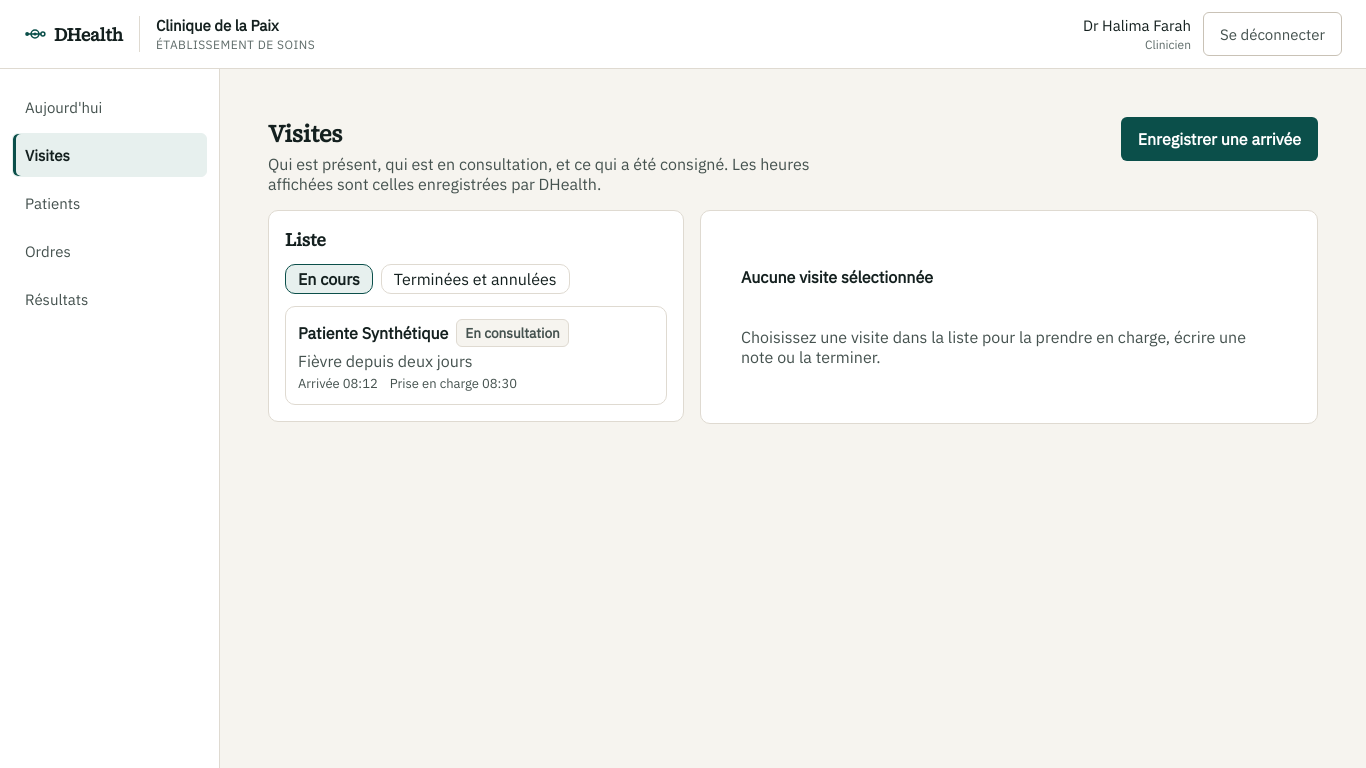
Test: Visites — the lifecycle › re-reads the visit when the server refuses a stale transition
The image size is (1366, 768).
Click the button "Patiente Synthétique" at (373, 333), box [285, 306, 667, 405]
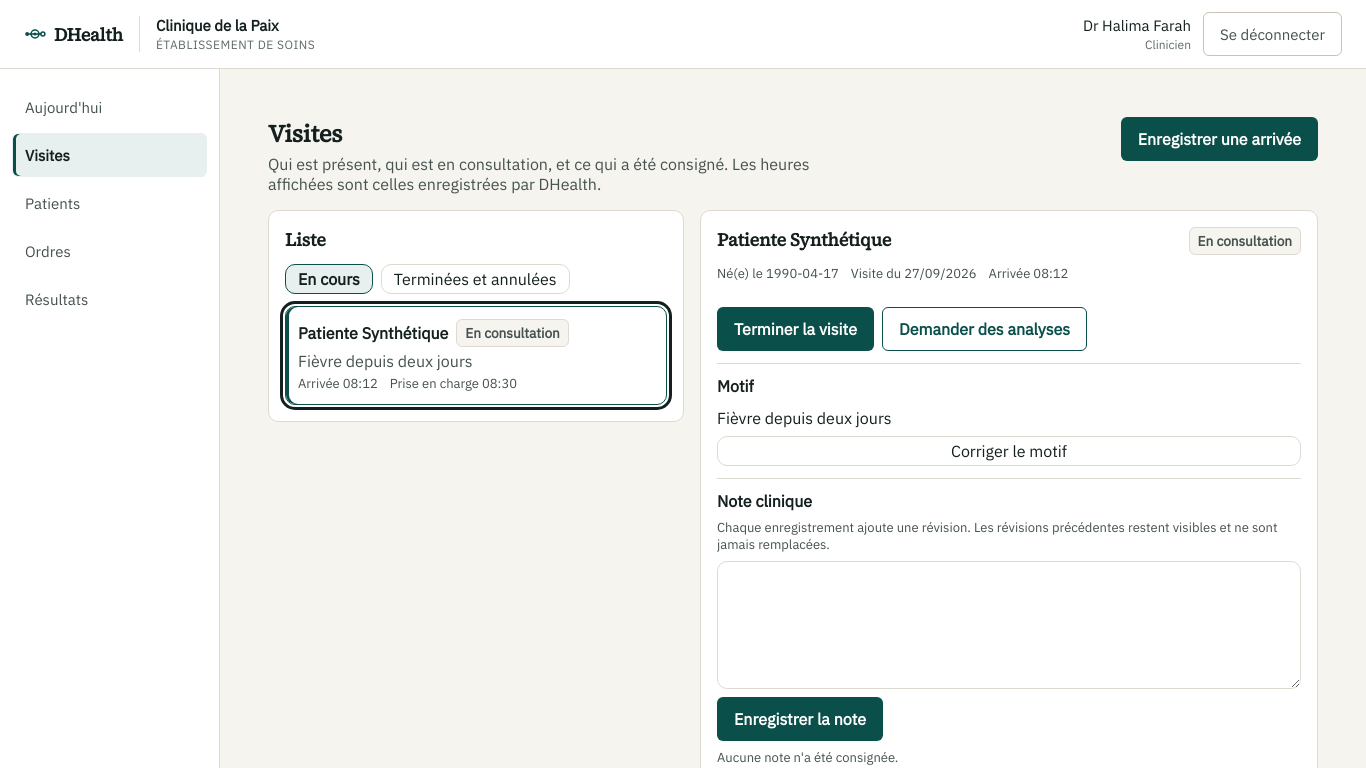
Click the button "Terminer la visite" at (795, 329), box [717, 307, 874, 351]
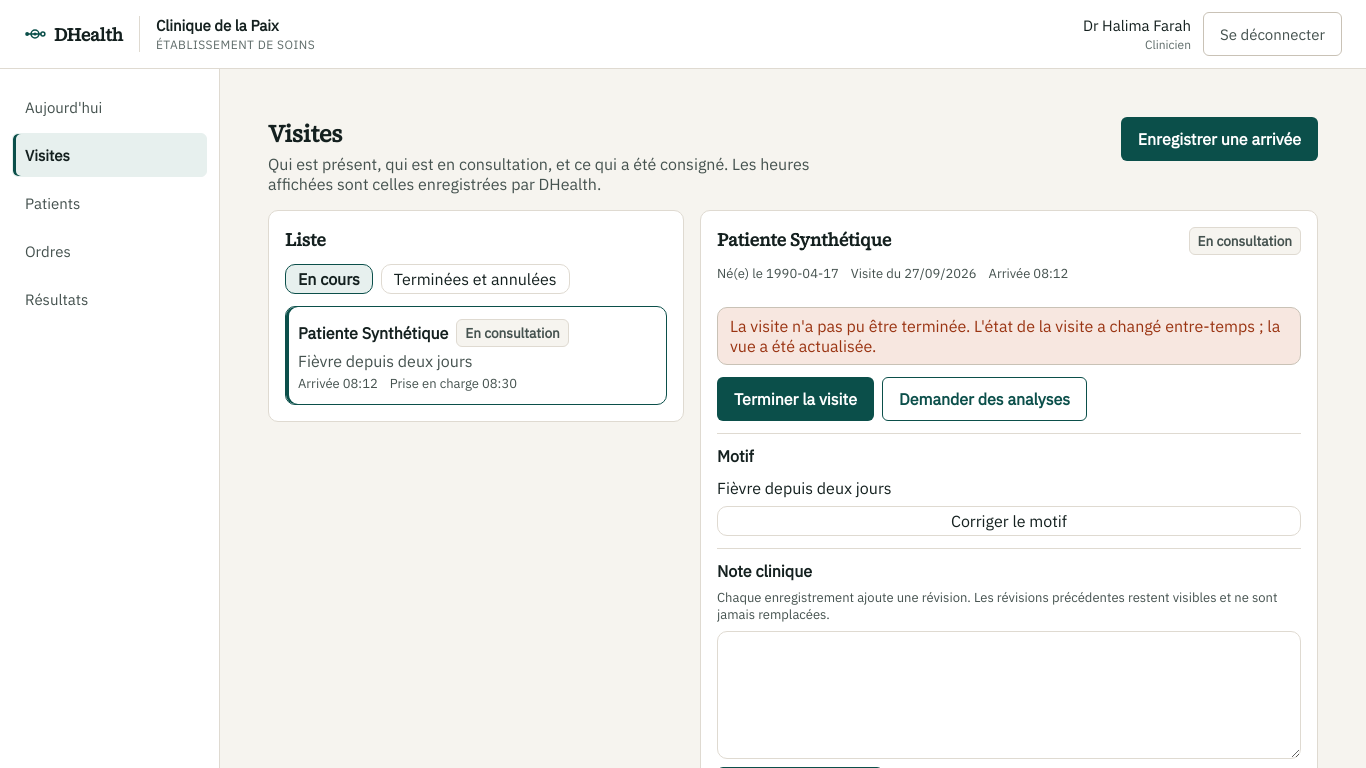
Expected: the message shows "état de la visite a changé", [730, 316, 1280, 356]
